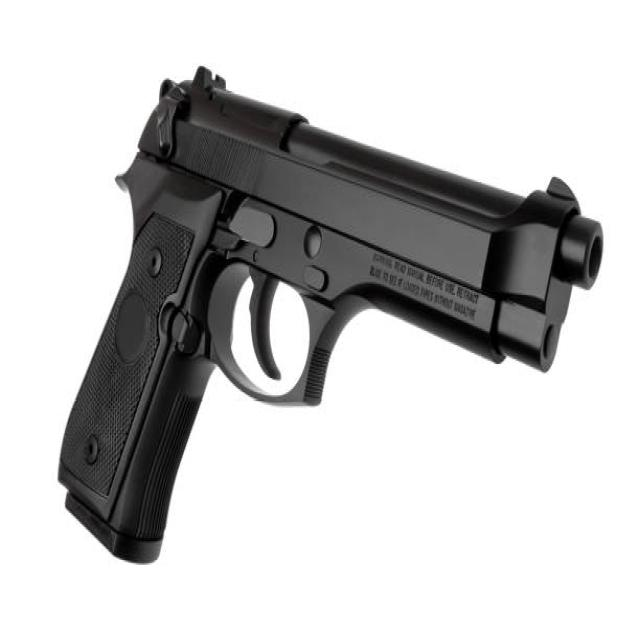pistol: (49, 57, 609, 577)
